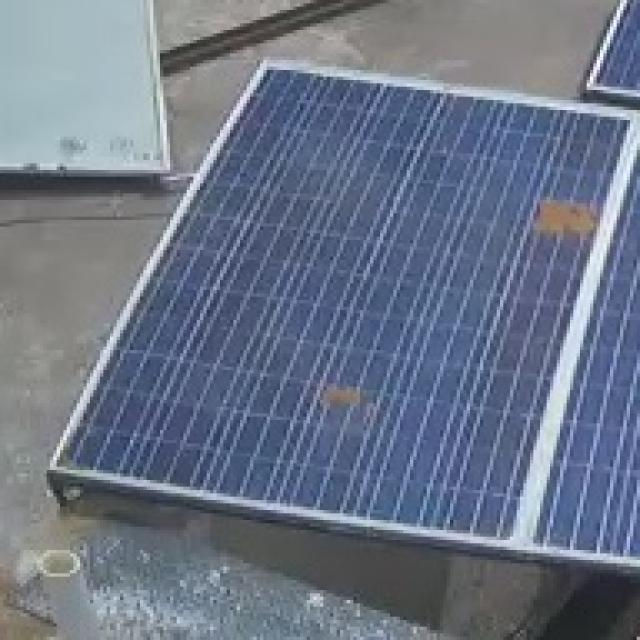Anomaly Solar Panel: (51, 64, 639, 541)
Surface Contaminant: (531, 184, 603, 256), (309, 367, 373, 418)
